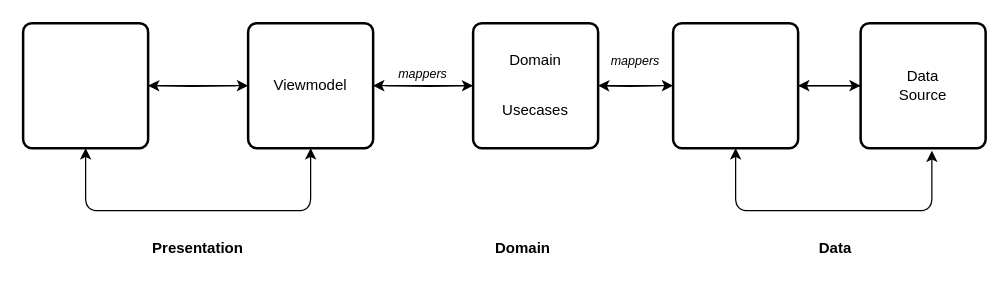
Some shapes in this 1008 by 281 pixel diagram are drawn without their labels. Here are the shapes that lost their labels. From the top down, the centre of each, then its label:
At (x=85, y=85): "UI".
At (x=735, y=85): "Repository".
